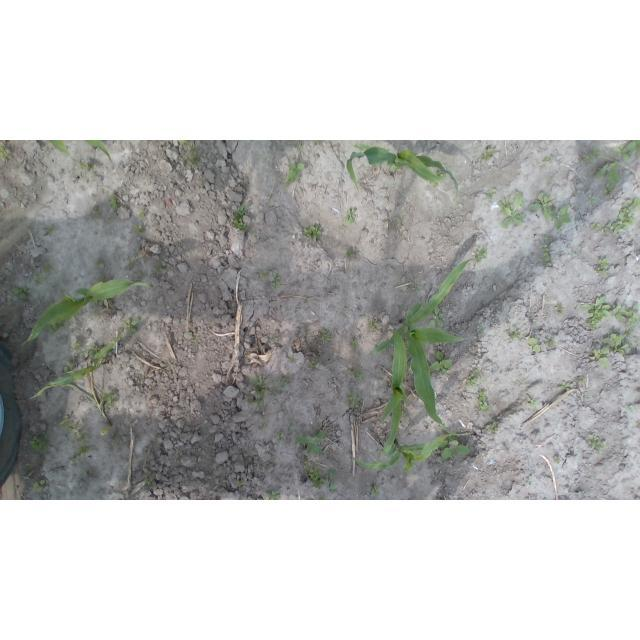Maize: (370, 257, 474, 436), (23, 280, 156, 346), (346, 144, 459, 202), (29, 333, 122, 402), (352, 433, 460, 474), (376, 331, 408, 459), (66, 382, 113, 435), (43, 141, 114, 164)
Weeds: (580, 295, 614, 330), (611, 198, 640, 235), (499, 192, 526, 228), (595, 162, 622, 195), (292, 430, 326, 454), (300, 459, 326, 490), (245, 376, 275, 402), (530, 191, 554, 221), (440, 437, 470, 460), (615, 303, 640, 330), (604, 334, 629, 358), (612, 141, 640, 162), (549, 205, 571, 230), (429, 352, 452, 375), (232, 202, 249, 230), (285, 163, 305, 186), (589, 346, 609, 368), (29, 434, 50, 452), (540, 236, 553, 265), (429, 306, 445, 328), (588, 434, 607, 452), (69, 424, 87, 442), (466, 370, 483, 387), (184, 147, 200, 165), (303, 224, 321, 240), (125, 316, 140, 333), (594, 259, 609, 276), (476, 390, 488, 410), (102, 390, 116, 407), (347, 393, 361, 409), (504, 328, 521, 341), (1, 140, 12, 160), (348, 365, 363, 379), (475, 247, 488, 263), (367, 482, 380, 497), (525, 395, 540, 408), (345, 207, 356, 224), (271, 273, 282, 290), (329, 469, 337, 492), (528, 338, 541, 352), (13, 287, 27, 300), (84, 209, 100, 220), (279, 377, 292, 390), (88, 345, 101, 358), (481, 148, 495, 160), (34, 272, 47, 284), (557, 381, 571, 392), (266, 490, 281, 500), (33, 480, 45, 492), (48, 321, 62, 331), (77, 445, 89, 456), (78, 161, 91, 171), (60, 416, 70, 429), (486, 423, 499, 433), (273, 432, 284, 443), (134, 225, 145, 236), (321, 331, 332, 342), (111, 195, 119, 210), (581, 154, 592, 164), (554, 305, 564, 316), (256, 399, 265, 411), (310, 359, 322, 368), (486, 189, 496, 199), (624, 327, 633, 338), (64, 361, 73, 372), (592, 147, 601, 158), (350, 339, 359, 350), (545, 339, 556, 348), (287, 420, 295, 432), (190, 331, 199, 341), (46, 225, 56, 234), (525, 476, 533, 487), (591, 222, 602, 230), (180, 140, 194, 146), (346, 251, 358, 258), (70, 454, 79, 463), (588, 194, 597, 203), (543, 157, 554, 164), (74, 342, 83, 350), (44, 263, 53, 271), (625, 404, 634, 412), (370, 321, 379, 329), (155, 264, 165, 271), (144, 478, 152, 486), (476, 326, 484, 334), (259, 269, 267, 277), (139, 208, 147, 216), (241, 182, 250, 189), (237, 479, 244, 488), (604, 223, 611, 232), (412, 285, 421, 292), (429, 180, 439, 186), (269, 335, 277, 342), (578, 378, 586, 385), (288, 357, 295, 364), (554, 455, 560, 463), (539, 165, 547, 171), (435, 172, 446, 176), (579, 243, 585, 250), (296, 141, 303, 147), (92, 260, 100, 265), (269, 457, 275, 463), (401, 411, 406, 418), (338, 225, 344, 230), (513, 381, 519, 386), (572, 251, 577, 257), (319, 496, 325, 500), (314, 141, 318, 146), (570, 184, 574, 189), (638, 421, 640, 428), (310, 498, 315, 500)
